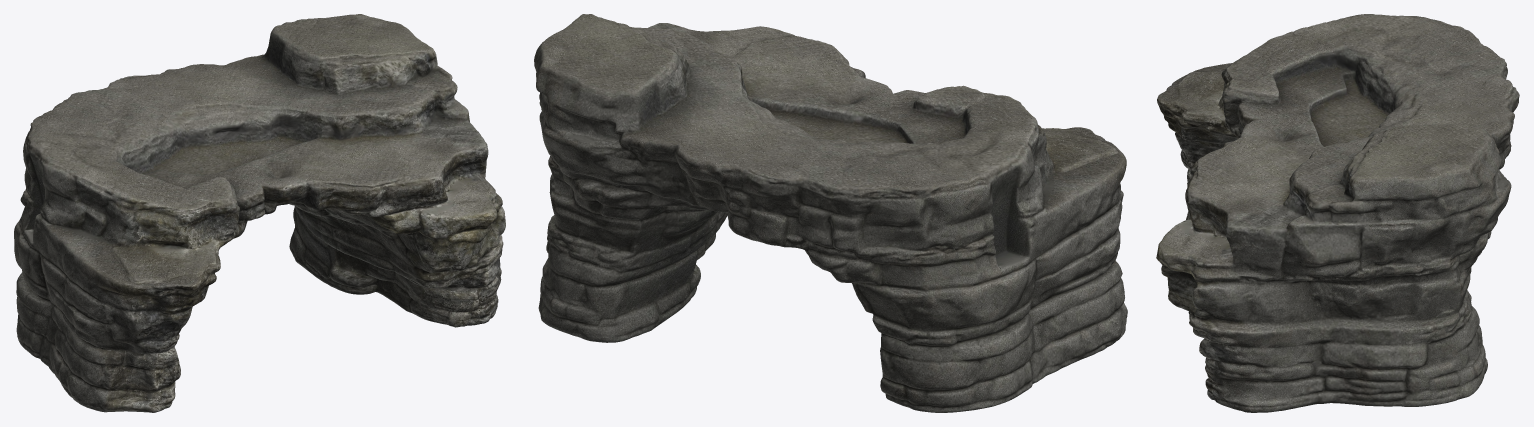
The model's file is rock_arch.glb.
3 views of the same model, side by side, from view 1: azimuth 30°, elevation 25°; view 2: azimuth 150°, elevation 25°; view 3: azimuth 270°, elevation 25° (orthographic). The views are drawn at different scales.
Parts seen in each view (by area): view 1: rock_arch; view 2: rock_arch; view 3: rock_arch.
Part boxes in pixels (left/top/right/bottom): rock_arch: left=14, top=14, right=505, bottom=412; rock_arch: left=534, top=14, right=1127, bottom=412; rock_arch: left=1156, top=14, right=1519, bottom=412.
Bounding box in the file's own units: 1.9 × 0.9474 × 1.35.
Materials: 1 (1 with a texture image).
